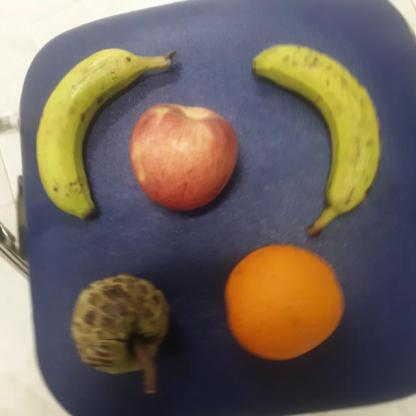annona: (67, 274, 172, 374)
apple: (125, 101, 246, 215)
banana: (249, 36, 384, 208), (32, 44, 147, 222)
orange: (216, 244, 346, 362)
